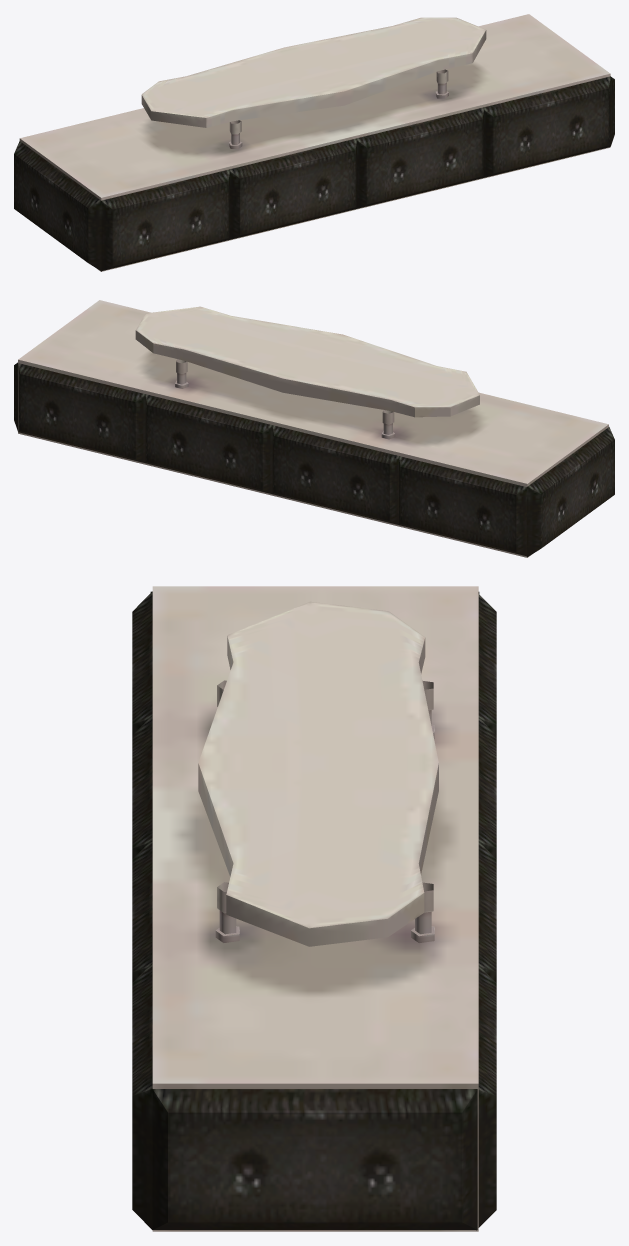
Rendered from furni_0200081.FBX.
The picture shows the model from 3 angles, top to bottom: view 1: azimuth 30°, elevation 25°; view 2: azimuth 150°, elevation 25°; view 3: azimuth 270°, elevation 25°; orthographic projection. The views are drawn at different scales.
Visible parts, largest first — view 1: furni_0200081; view 2: furni_0200081; view 3: furni_0200081.
Part boxes in pixels (x1,y1,x2,y2): furni_0200081: [14, 14, 614, 271]; furni_0200081: [14, 300, 614, 557]; furni_0200081: [132, 586, 496, 1231].
Size of the model in its own units: 248 by 49.56 by 74.34.
1 material, 1 textured.
